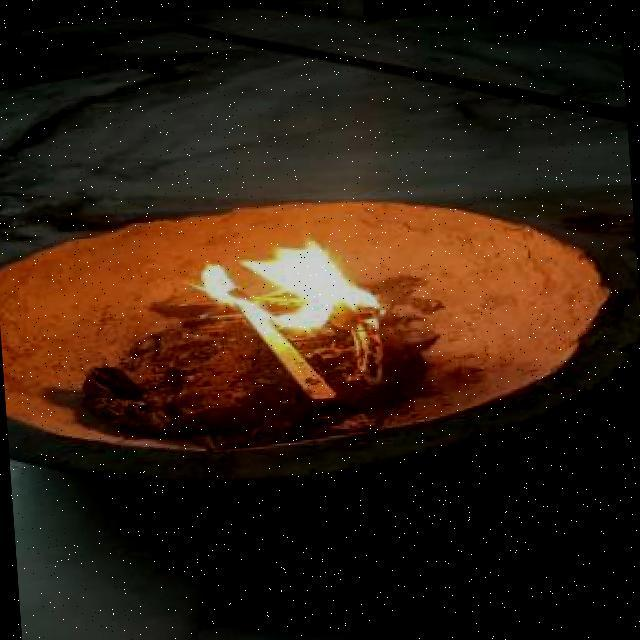Fire: (184, 195, 395, 369)
